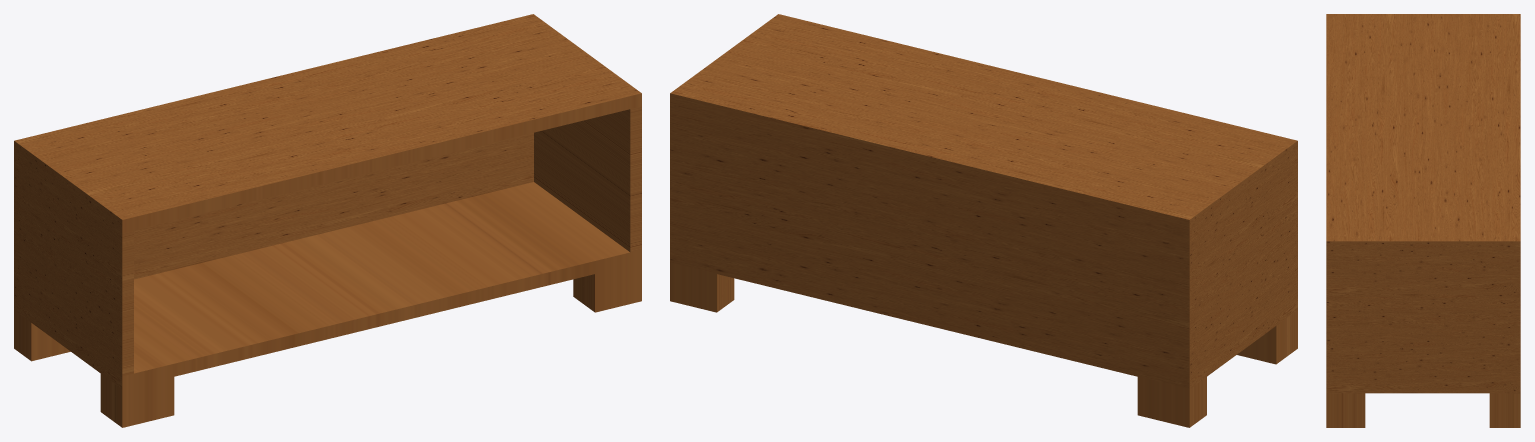
File: tv_stand.fbx
3 views of the same model, side by side, from view 1: azimuth 30°, elevation 25°; view 2: azimuth 150°, elevation 25°; view 3: azimuth 270°, elevation 25° (orthographic). The views are drawn at different scales.
Parts seen in each view (by area): view 1: Tv Stand; view 2: Tv Stand; view 3: Tv Stand.
Boxes of the visible parts, x1=… form: Tv Stand: x1=14, y1=14, x2=641, y2=427; Tv Stand: x1=670, y1=14, x2=1297, y2=427; Tv Stand: x1=1326, y1=14, x2=1520, y2=427.
Bounding box in the file's own units: 209 × 79.82 × 75.37.
